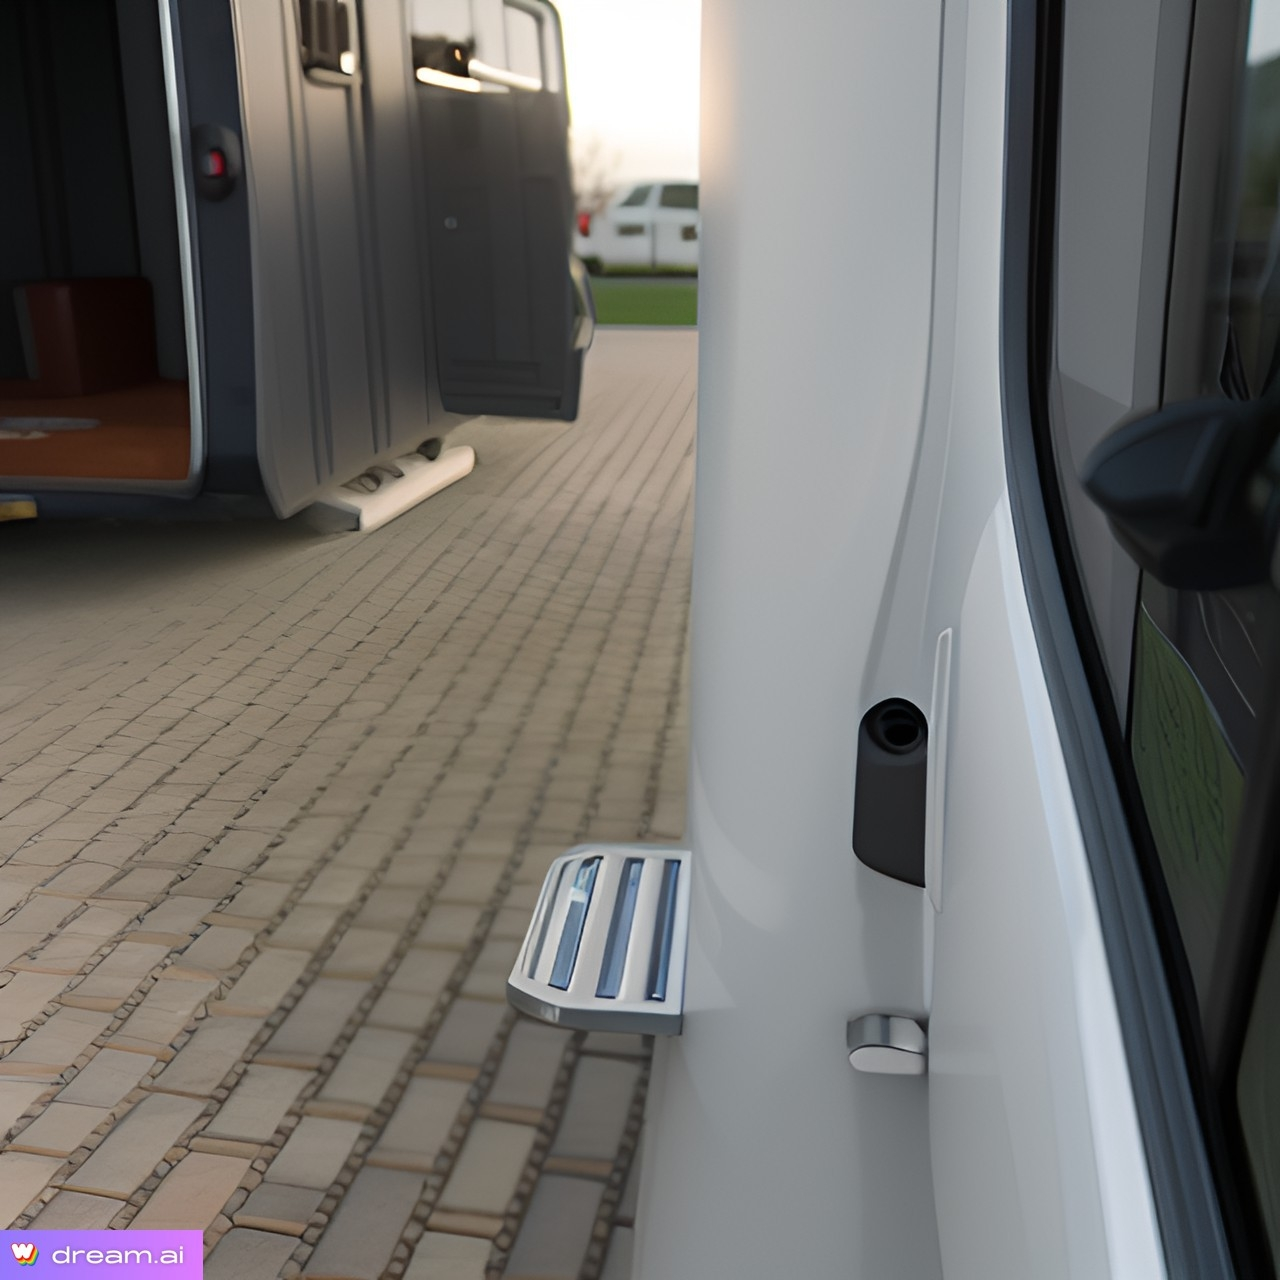step_front: (499, 813, 709, 1061)
